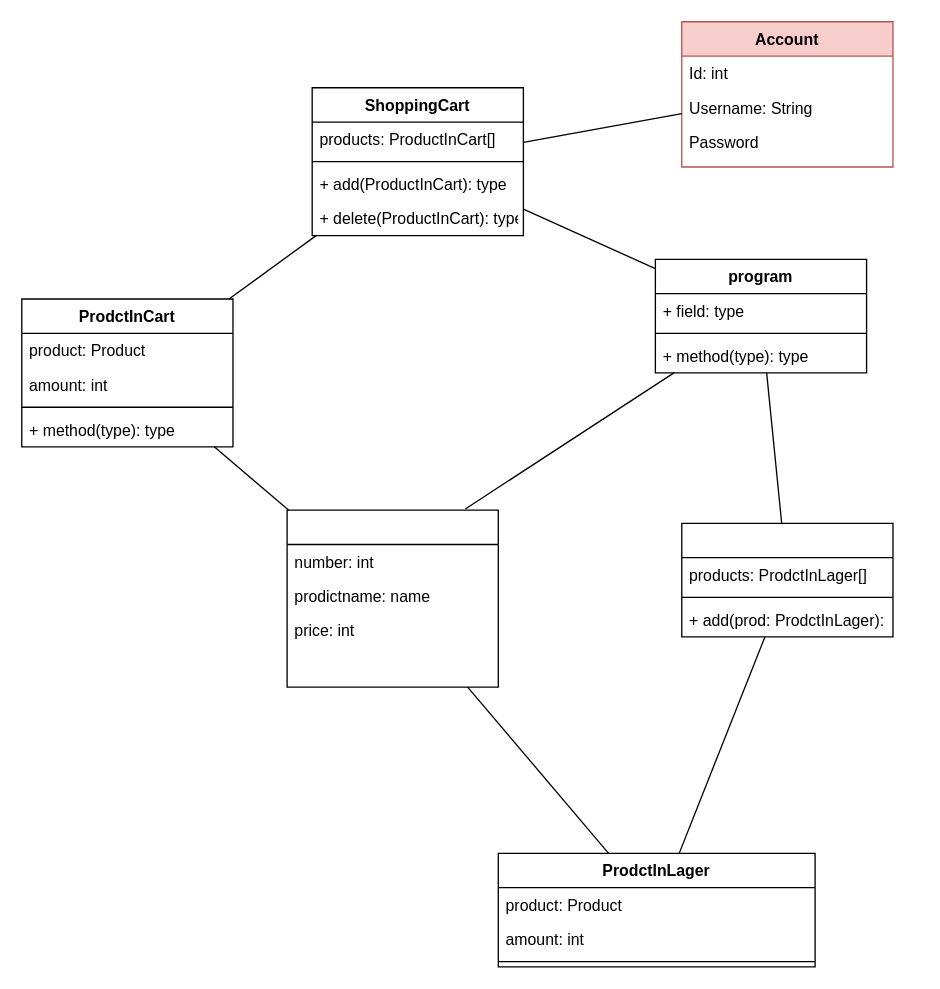
Image size: 940x989. Some labels were removed from this diagram. Each missing label, with the box of its shape:
Product: (286, 509, 498, 687)
Stock: (680, 522, 893, 637)
